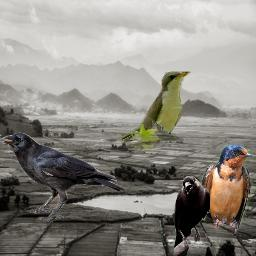Crow: (2, 132, 125, 222), (173, 176, 210, 256)
Cuckoo: (121, 69, 192, 152)
Swallow: (201, 144, 254, 235)
